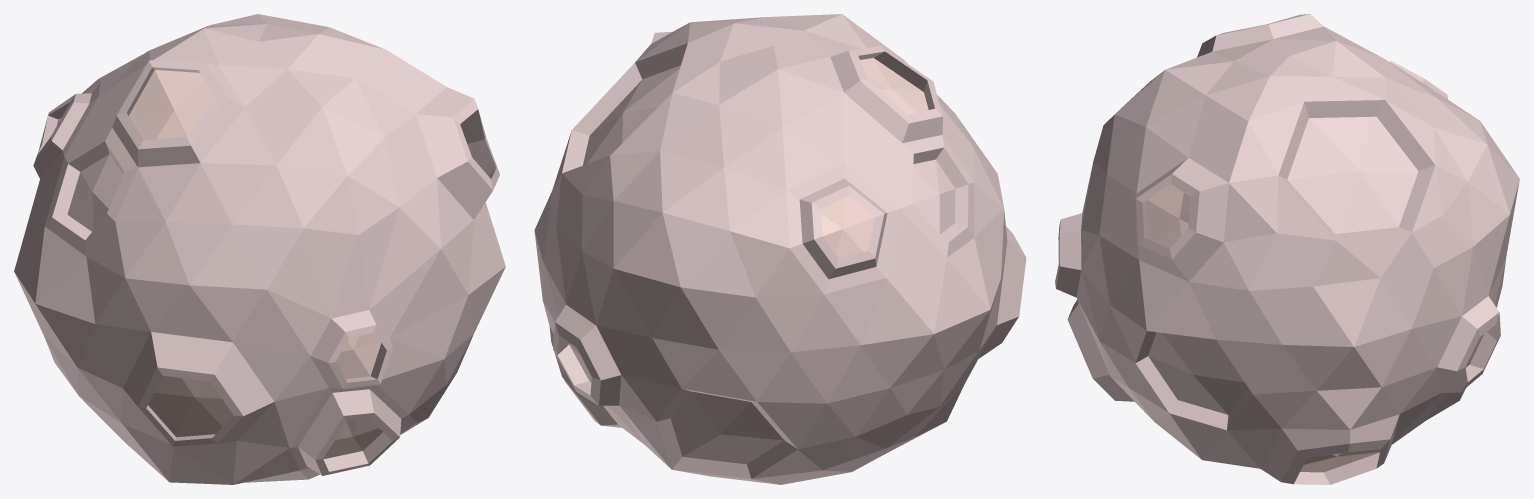
Rendered from SM_asteroida_srednia.fbx.
3 renders of one model, left to right at view 1: azimuth 30°, elevation 25°; view 2: azimuth 150°, elevation 25°; view 3: azimuth 270°, elevation 25°, orthographic. The views are drawn at different scales.
Parts seen in each view (by area): view 1: SM_asteroida_srednia; view 2: SM_asteroida_srednia; view 3: SM_asteroida_srednia.
Part boxes in pixels (left/top/right/bottom): SM_asteroida_srednia: left=14, top=14, right=505, bottom=484; SM_asteroida_srednia: left=534, top=14, right=1026, bottom=484; SM_asteroida_srednia: left=1055, top=14, right=1519, bottom=484.
Bounding box in the file's own units: 1.13 × 1.07 × 1.13.
